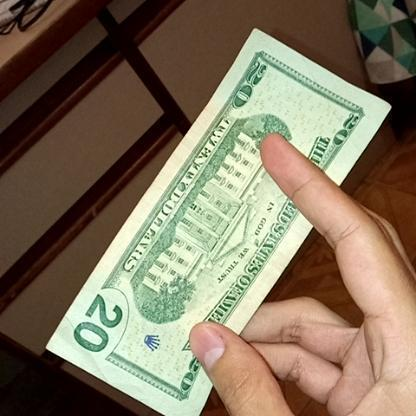twenty-back: (44, 17, 394, 416)
